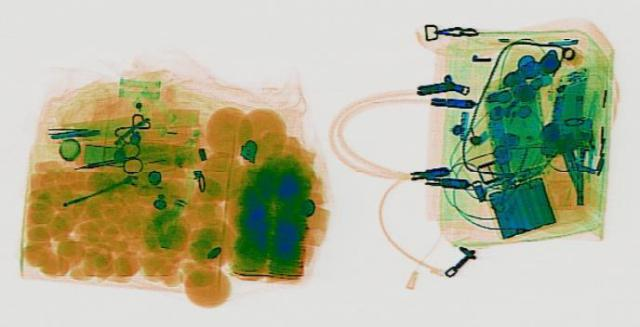Scissors: (61, 141, 157, 180)
